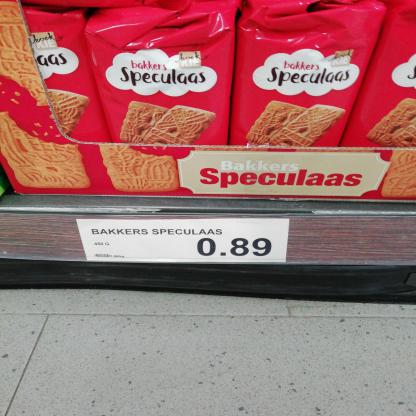prtg: (77, 220, 291, 263)
